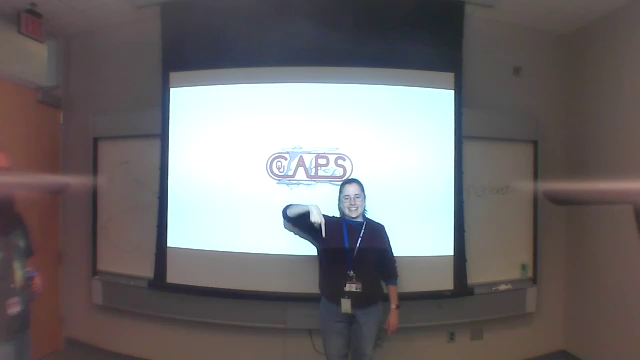down: (304, 201, 332, 240)
